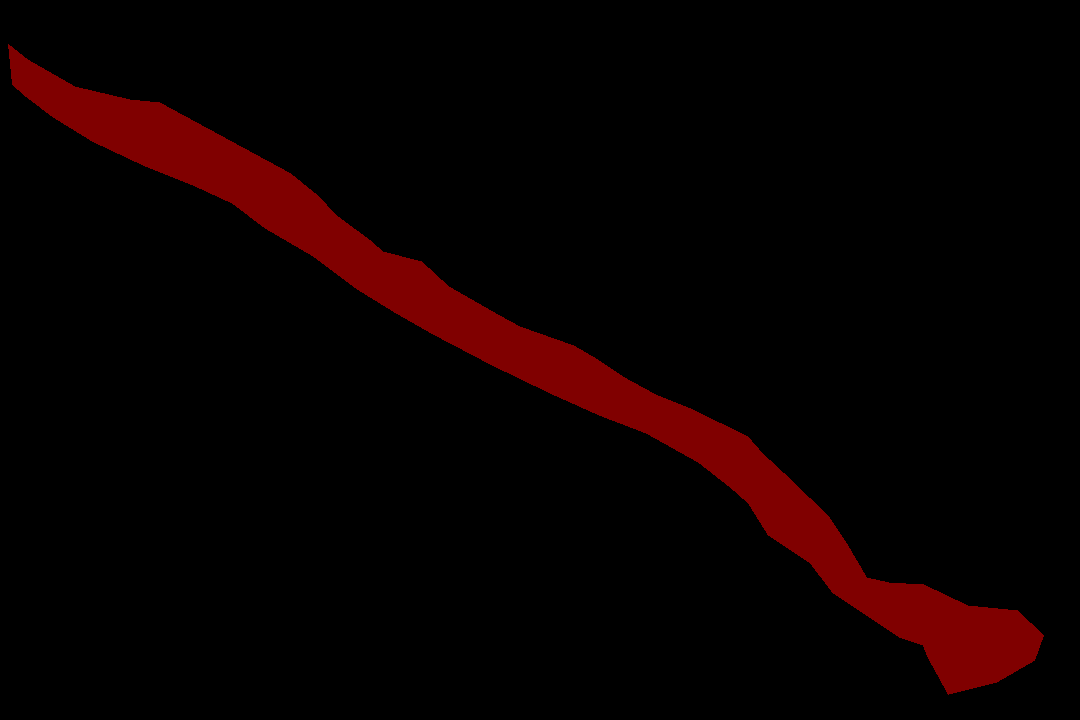fire: (8, 44, 1043, 694)
